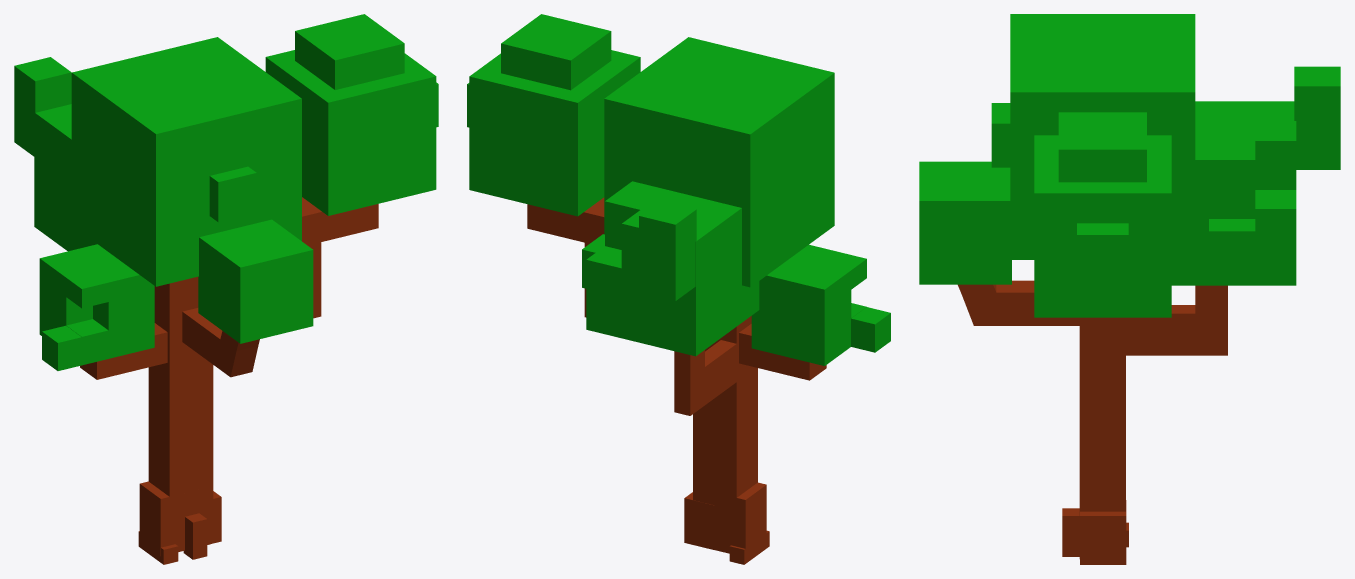
The model's file is ArvoreVoxel2.fbx.
The picture shows the model from 3 angles, left to right: view 1: azimuth 30°, elevation 25°; view 2: azimuth 150°, elevation 25°; view 3: azimuth 270°, elevation 25°; orthographic projection. The views are drawn at different scales.
Parts seen in each view (by area): view 1: Box006, Box003; view 2: Box006, Box003; view 3: Box006, Box003.
Boxes of the visible parts, <box> form: Box006: <box>14,14,438,370</box>; Box003: <box>80,197,378,564</box>; Box006: <box>467,14,890,365</box>; Box003: <box>527,197,826,564</box>; Box006: <box>919,14,1340,317</box>; Box003: <box>958,280,1227,564</box>.
Bounding box in the file's own units: 211 × 242 × 179.
